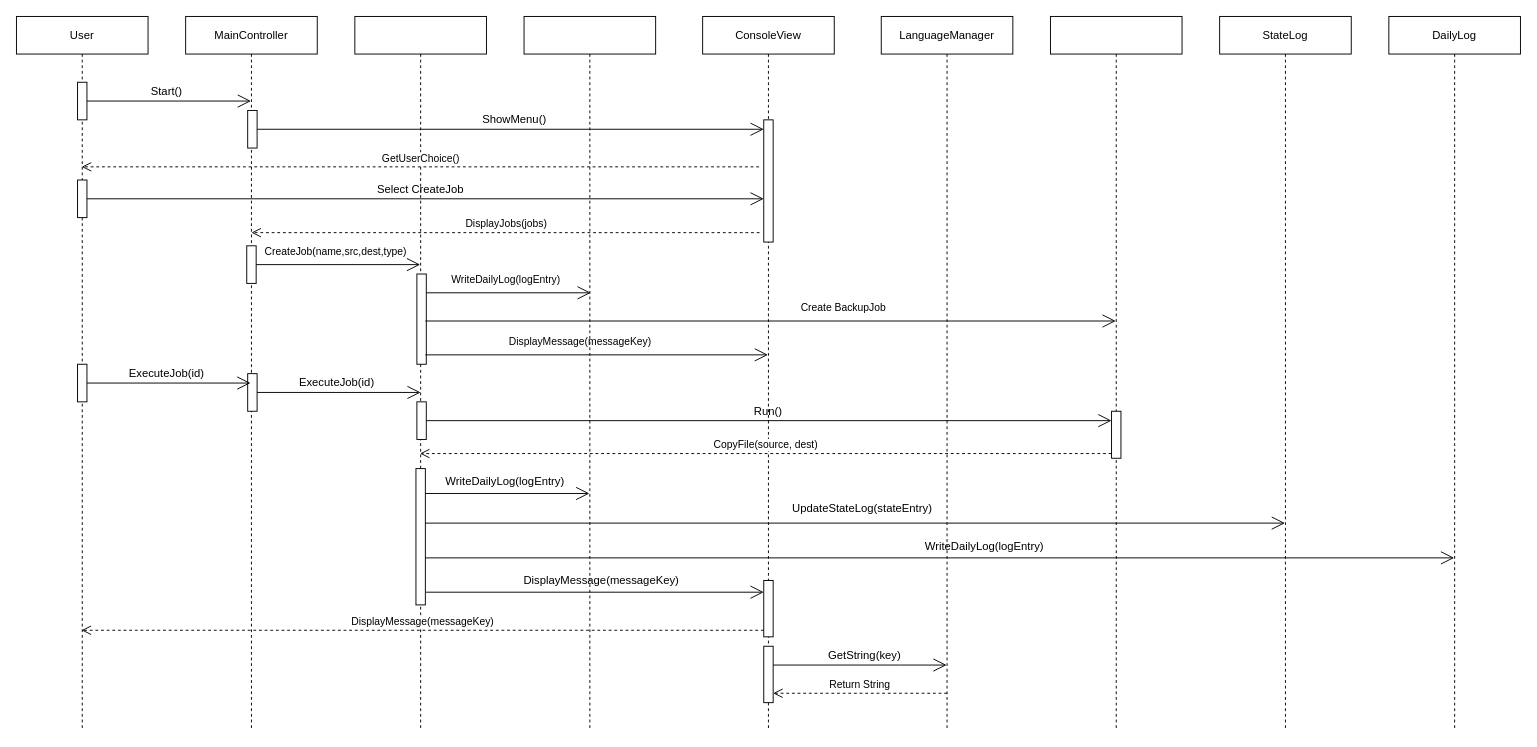
Some shapes in this 1537 by 747 pixel diagram are drawn without their labels. The box of each missing label's shape, as (x1, y1, x2, y2) in pixels:
BackupJob: (1050, 16, 1182, 731)
BackupManager: (354, 16, 486, 731)
LoggerService: (523, 16, 656, 731)
